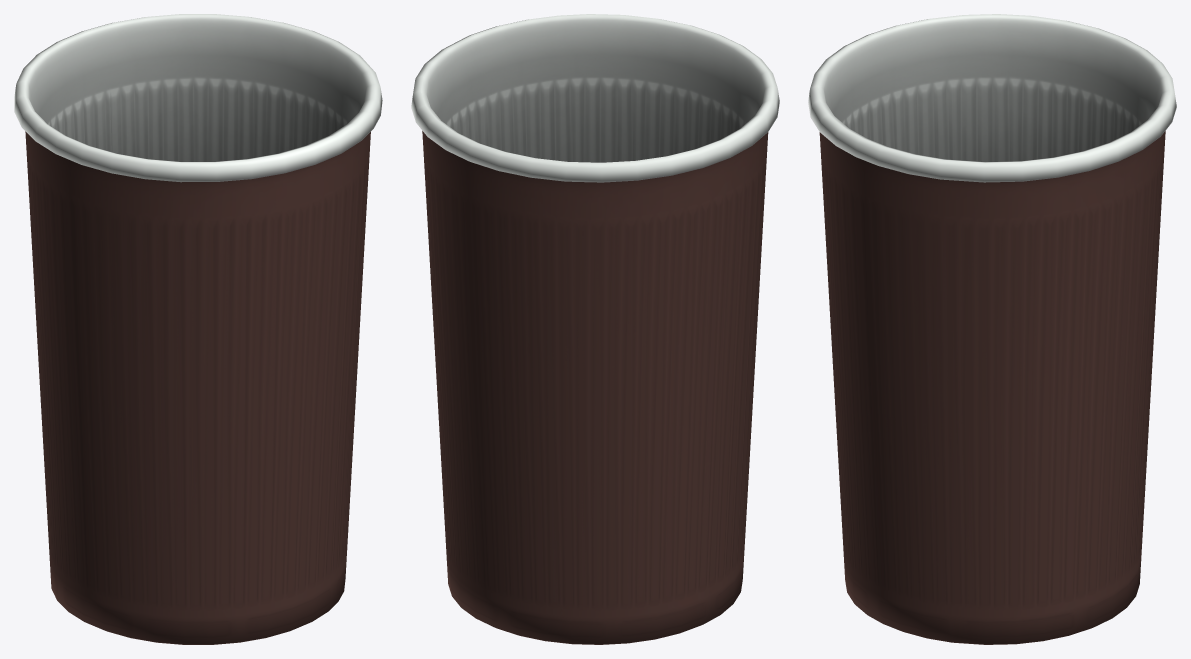
File: cup.fbx
3 views of the same model, side by side, from view 1: azimuth 30°, elevation 25°; view 2: azimuth 150°, elevation 25°; view 3: azimuth 270°, elevation 25° (orthographic).
Visible parts, largest first — view 1: Plastic Cup; view 2: Plastic Cup; view 3: Plastic Cup.
Part boxes in pixels (x1,y1,x2,y2): Plastic Cup: (14, 14, 382, 644); Plastic Cup: (411, 14, 779, 644); Plastic Cup: (808, 14, 1176, 644).
Size of the model in its own units: 1.54 by 2.29 by 1.54.
1 material, 1 textured.
